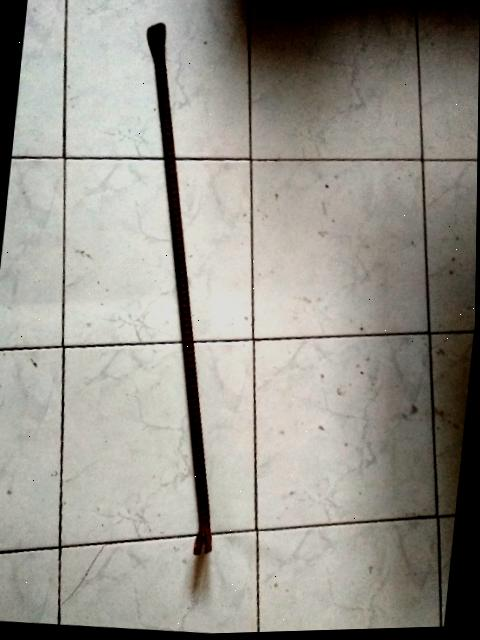crow bar: (147, 12, 224, 575)
